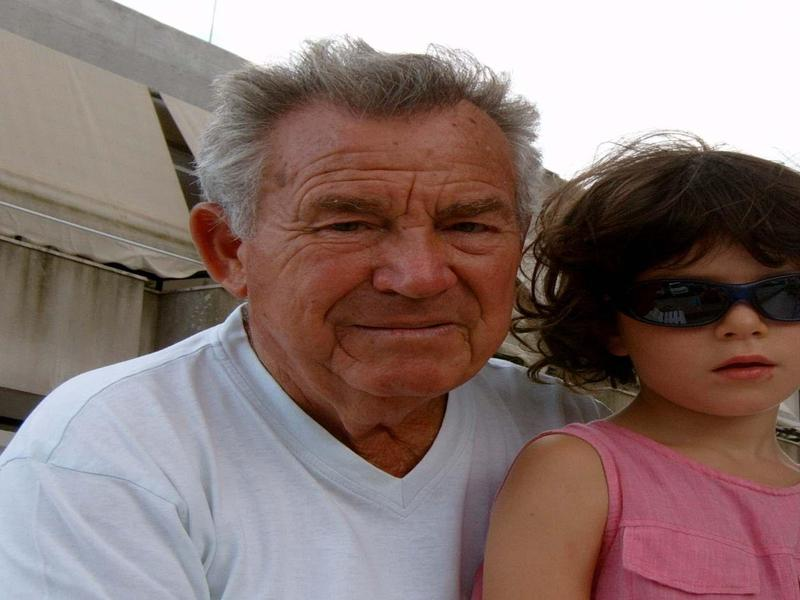person: (1, 43, 602, 600), (478, 115, 798, 600)
